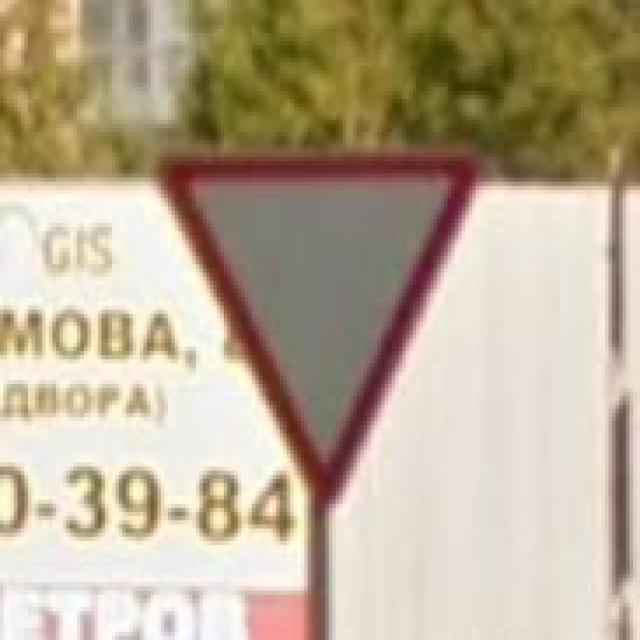traffic_sign: (151, 148, 479, 500)
